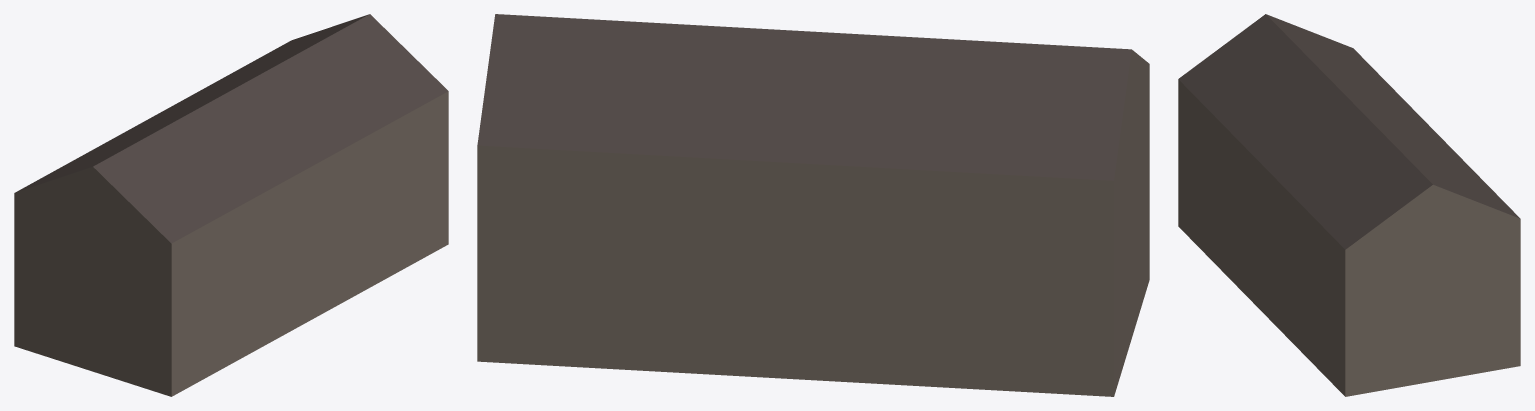
The picture shows the model from 3 angles, left to right: view 1: azimuth 30°, elevation 25°; view 2: azimuth 150°, elevation 25°; view 3: azimuth 270°, elevation 25°; orthographic projection. The views are drawn at different scales.
Visible parts, largest first — view 1: HP-w1200785661; view 2: HP-w1200785661; view 3: HP-w1200785661.
Part boxes in pixels (x1=…): HP-w1200785661: x1=14, y1=14, x2=448, y2=396; HP-w1200785661: x1=477, y1=14, x2=1149, y2=396; HP-w1200785661: x1=1178, y1=14, x2=1520, y2=396.
Size of the model in its own units: 26.45 by 12.04 by 18.99.
